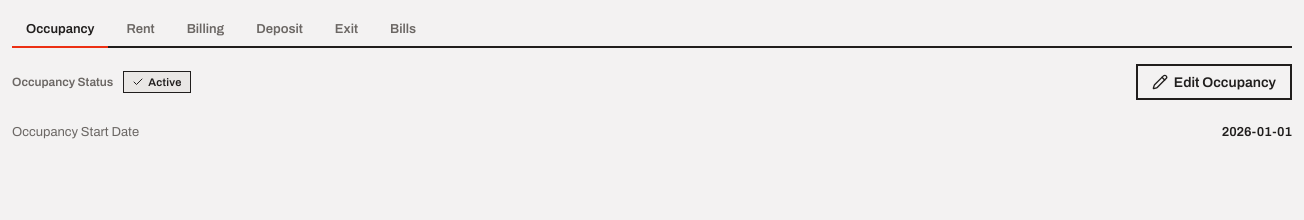
Test case: UnitOccupancyTabs — P6.3-J: Bills/Ledger tabs are opt-in, for the historical occupancy page › shows the Bills empty state when an empty array is supplied (not the same as omitting the prop)
This screenshot has width=1304, height=220.
Step 1. Click the tab "Bills" → (403, 30), box [376,12,430,48]
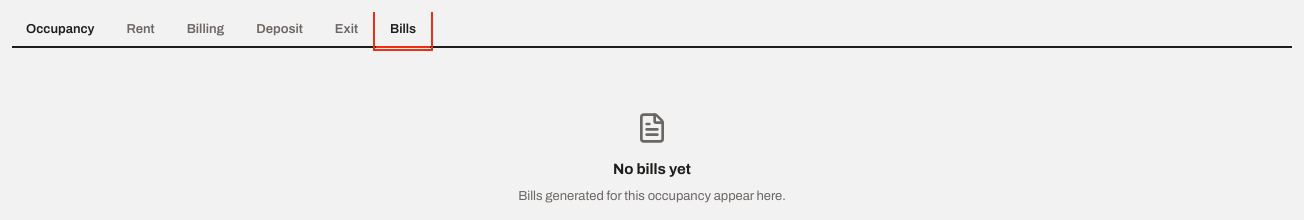
Expected: the text "No bills yet" is shown, [613,158,691,180]
